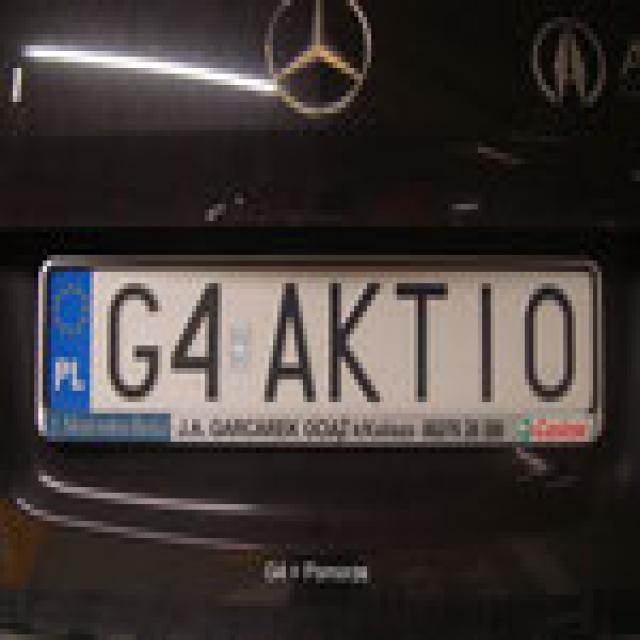pl_license_plate: (43, 266, 593, 402)
